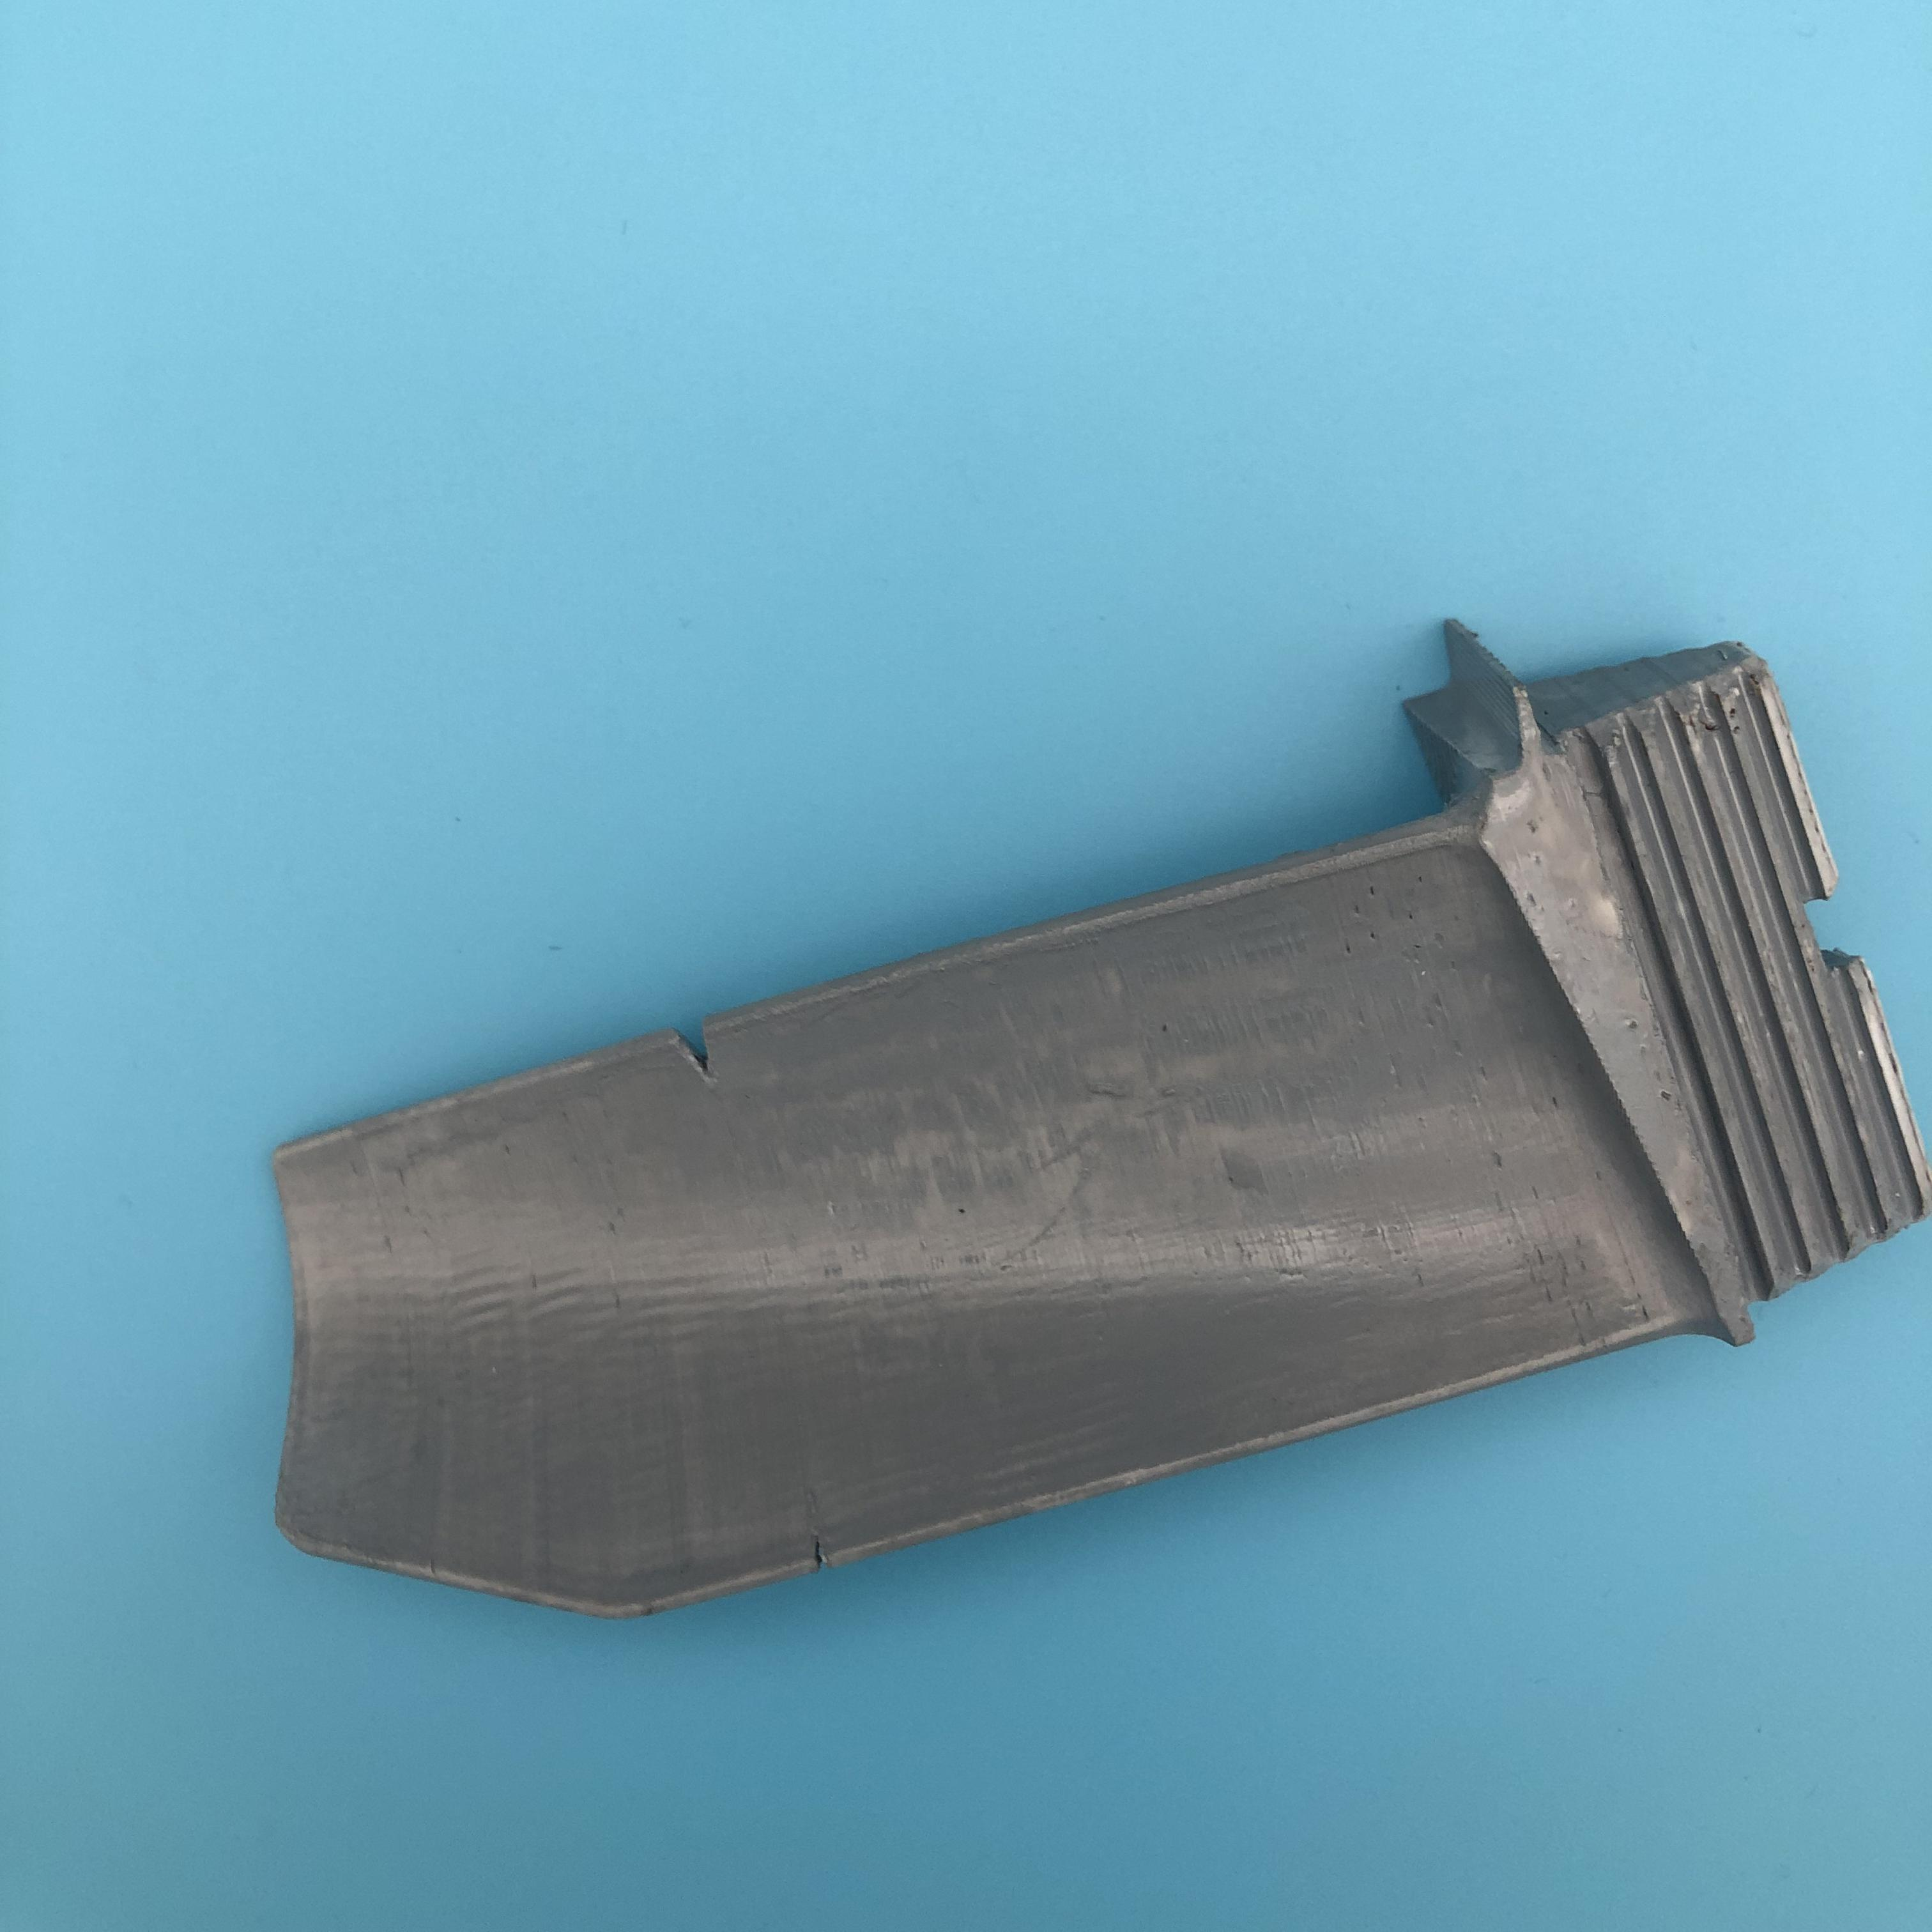groove: (665, 1023, 738, 1076), (800, 1534, 837, 1571)
